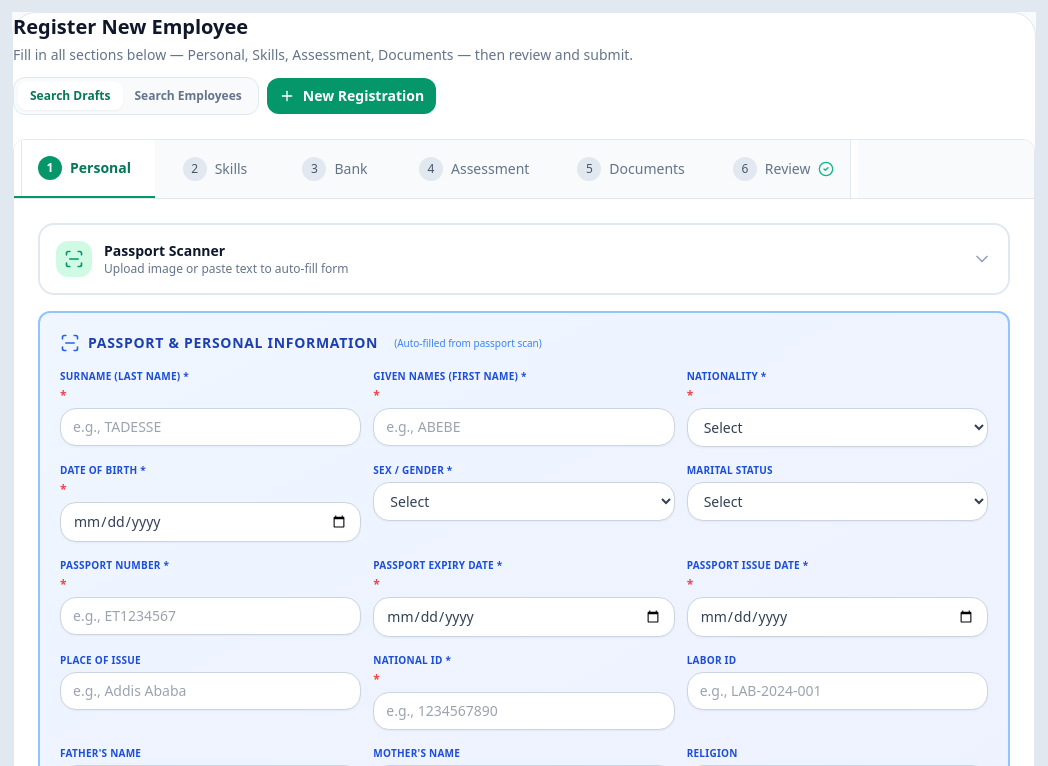
Test: RegistrationWizard › switches to Skills step when the Skills tab is clicked
Click the button "2 Skills". click: {"x": 215, "y": 169}
box: [155,140,275,198]
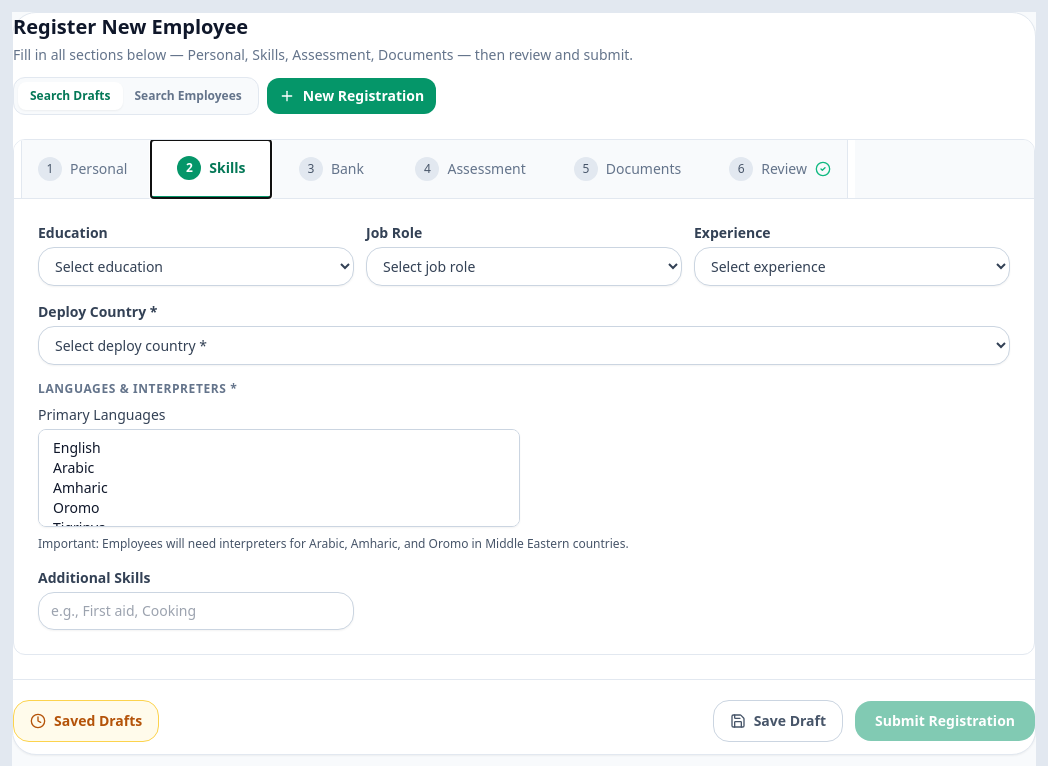
expect the text "Job Role" is shown: met, box [366,223,682,286]
expect the text "Education" is shown: met, box [38,223,354,286]
expect the text "Experience" is shown: met, box [694,223,1010,286]
